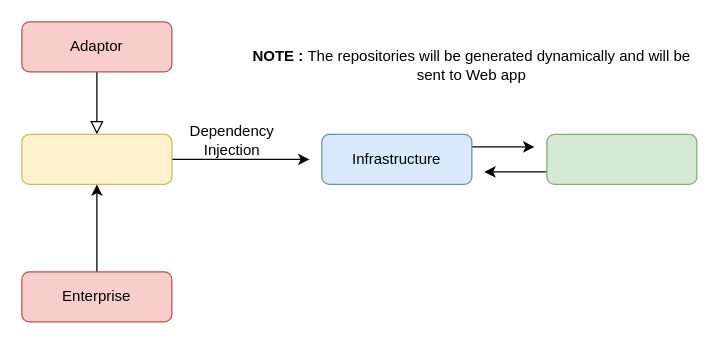
Image size: 719x344. Some labels were removed from this diagram. The shapes that lost their labels are listed below. From the top down, each one's centre as x and y in pixels, then its label:
At pixel 96 158: "Business".
At pixel 621 158: "Web App".
